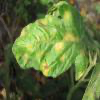Tomato mold leaf: (10, 2, 91, 82)
